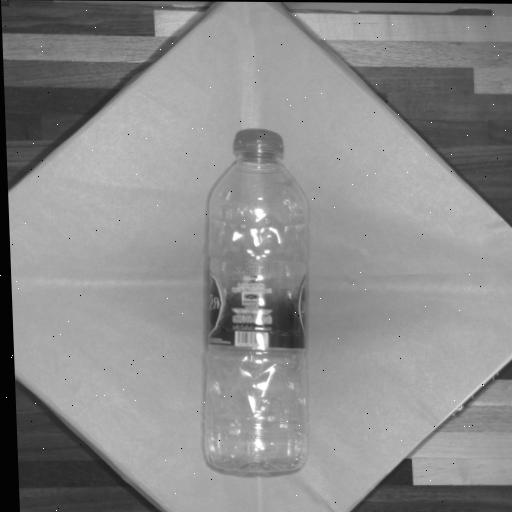bottle: (204, 130, 306, 470)
